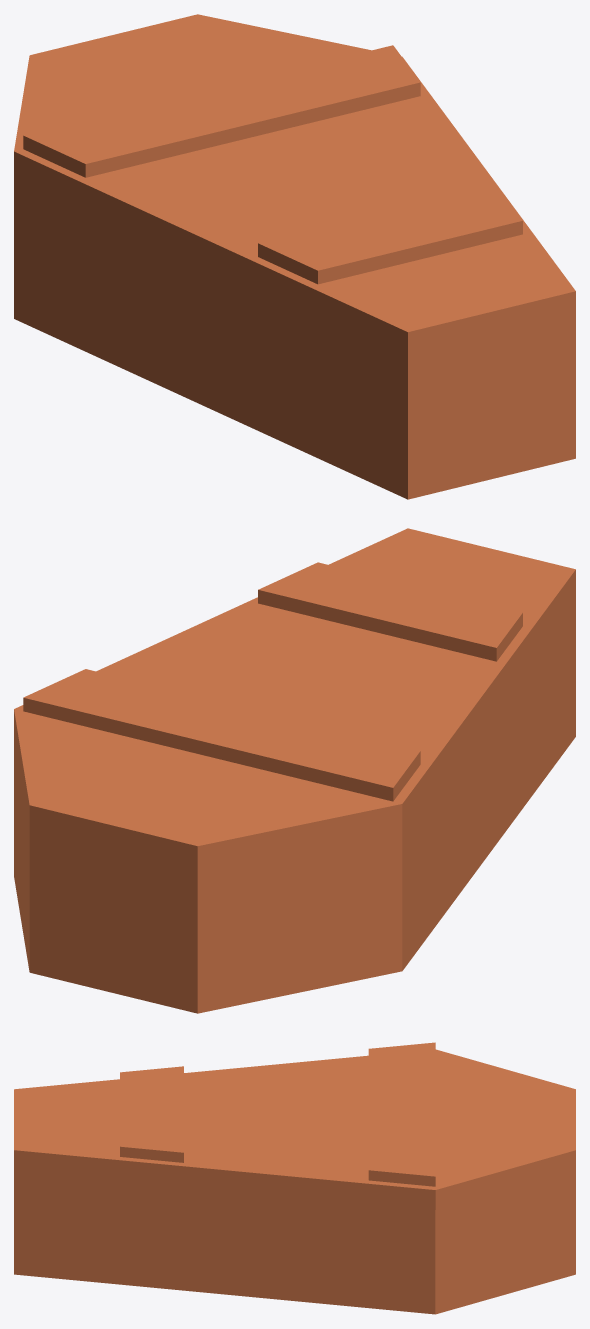
File: coffin.fbx
The picture shows the model from 3 angles, top to bottom: view 1: azimuth 30°, elevation 25°; view 2: azimuth 150°, elevation 25°; view 3: azimuth 270°, elevation 25°; orthographic projection. The views are drawn at different scales.
Parts seen in each view (by area): view 1: lid, coffin; view 2: lid, coffin; view 3: lid, coffin.
Boxes of the visible parts, left/top/right/bottom form: lid: left=14, top=14, right=575, bottom=358; coffin: left=14, top=178, right=575, bottom=499; lid: left=14, top=528, right=575, bottom=872; coffin: left=14, top=596, right=575, bottom=1013; lid: left=14, top=1042, right=575, bottom=1209; coffin: left=14, top=1170, right=575, bottom=1314.
Bounding box in the file's own units: 5.93 × 2.64 × 10.
